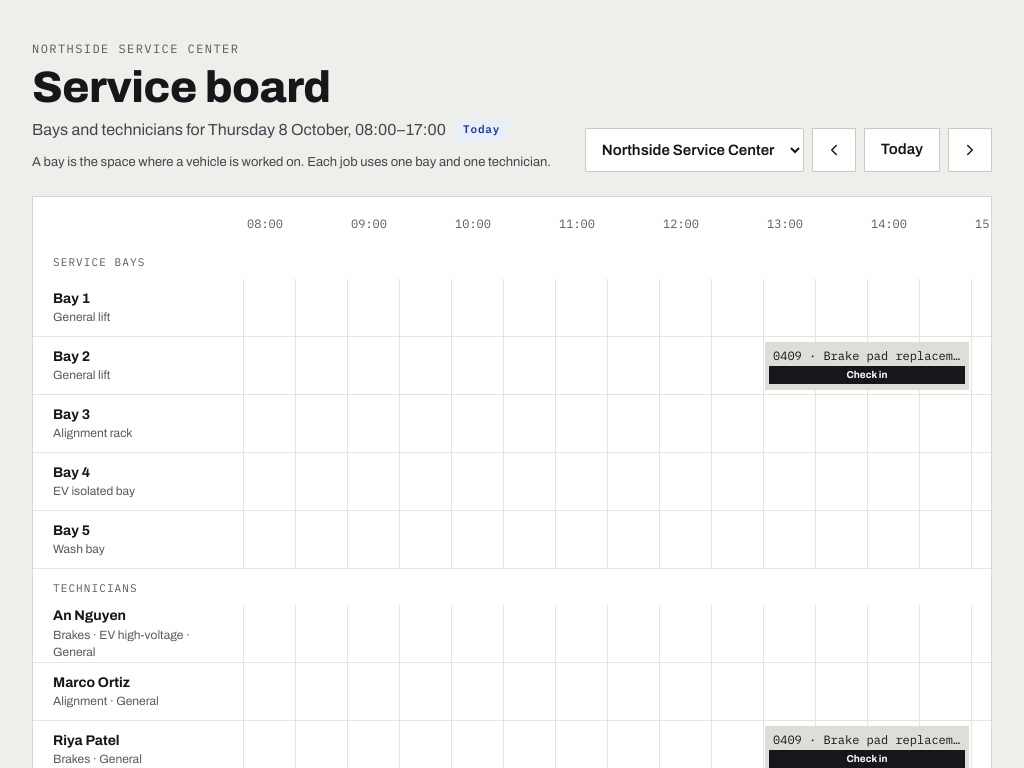
Service board › day navigation moves the date and hides Check in on other days
The width and height of the screenshot is (1024, 768).
What coordinates should you click on to do the following:
click the button named "Next day"
I would click on:
 (970, 150)
Its box is [948,128,992,172].
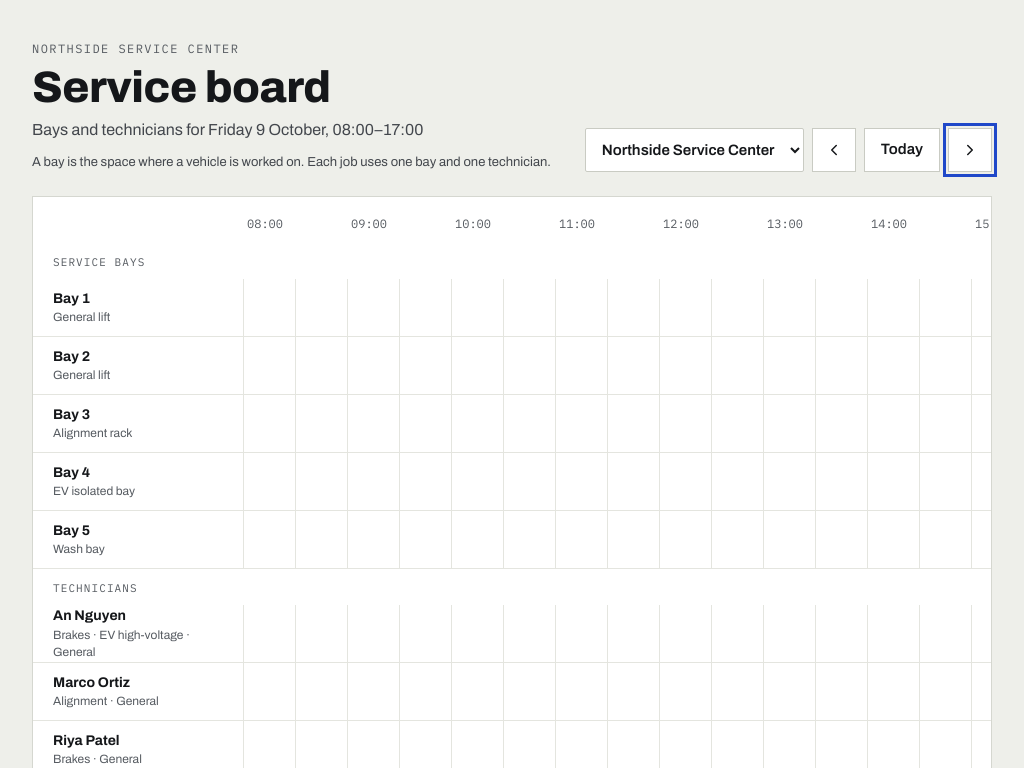
Result: the text "Bays and technicians for Friday 9 October, 08:00–17:00" is shown at [32,121,423,138]
Result: the button "Check in" is gone
What coordinates should you click on to do the following:
click the button "Today"
I would click on:
 (902, 150)
Its box is [864,128,940,172].
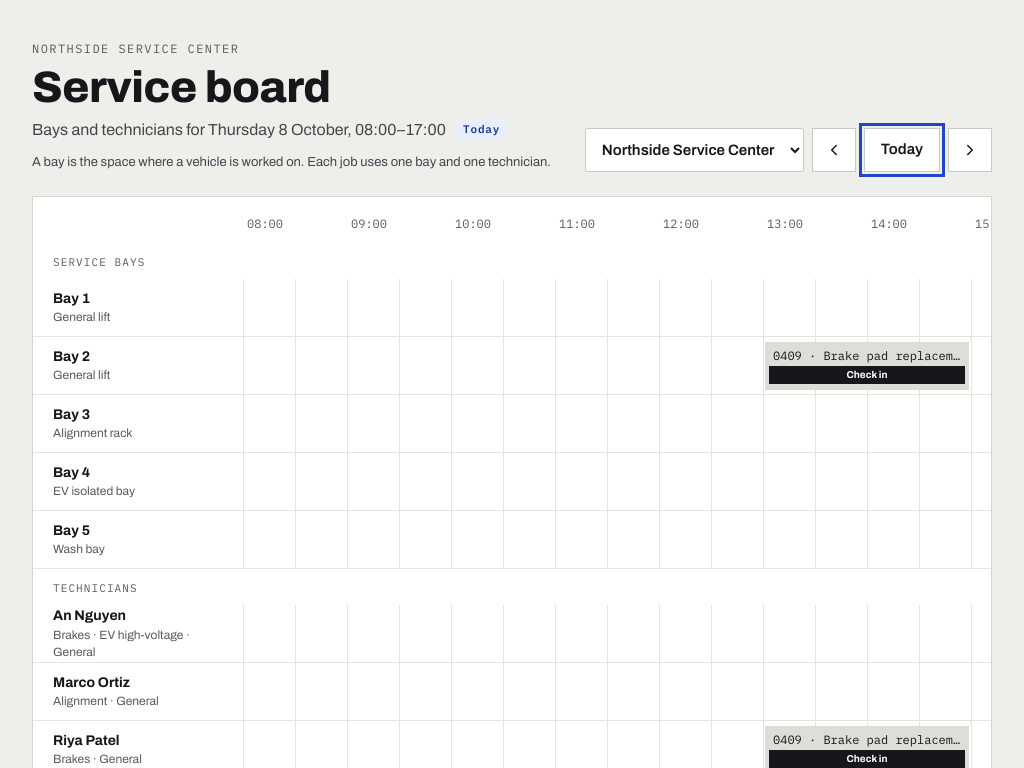
Result: the text "Thursday 8 October" is shown at [32,121,446,138]
